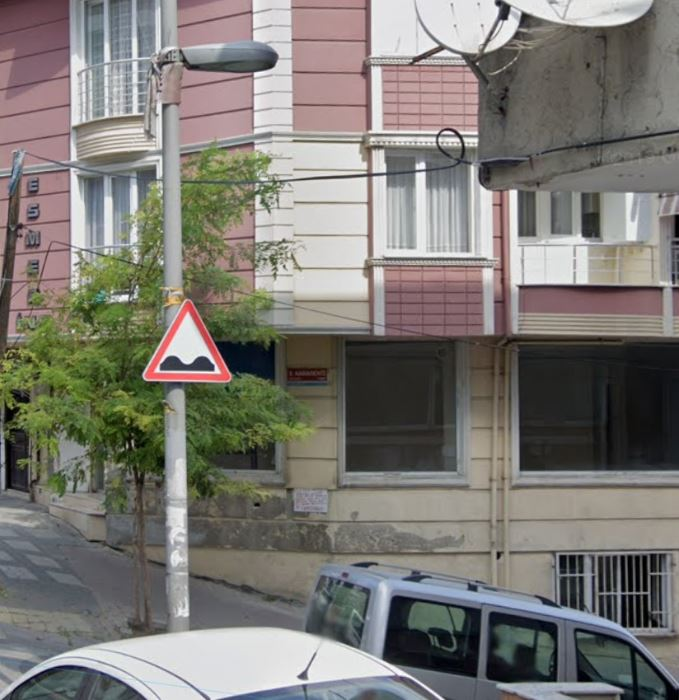Kasisli Yol: (142, 297, 233, 384)
